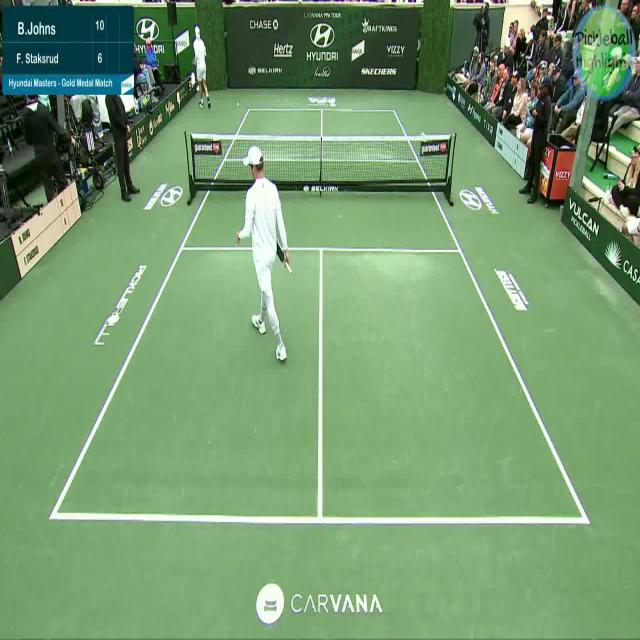ball: (235, 96, 243, 111)
